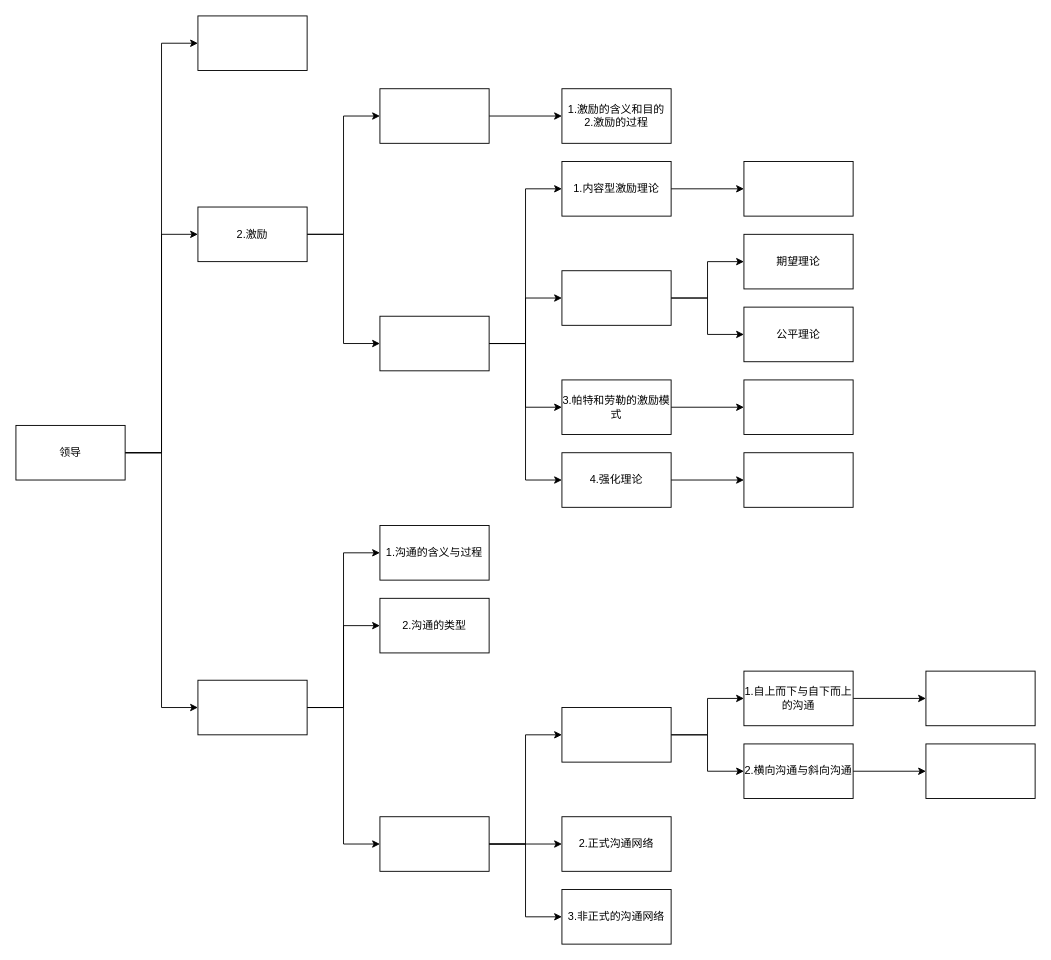
This 1051x960 diagram has some shape labels left out. Each missing label, with the centre of its shape:
1.正式沟通渠道: the point at 616,734
1.激励的性质: the point at 434,115
1.领导: the point at 252,43
2.激励理论: the point at 434,343
2.过程型激励理论: the point at 616,297
3.沟通: the point at 252,707
3.沟通渠道与沟通网络: the point at 434,843
